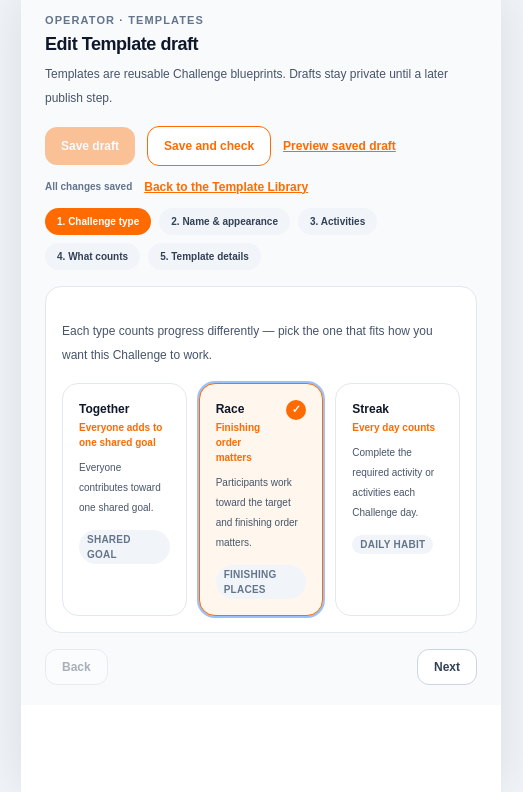
Test case: Save and check › saves through the conditional contract first, then validates the saved version once
Expected: the navigation bar named "Editor steps" is shown, [45, 208, 377, 270]
Click the button "5. Template details". click: (204, 256)
box: [148, 242, 261, 270]
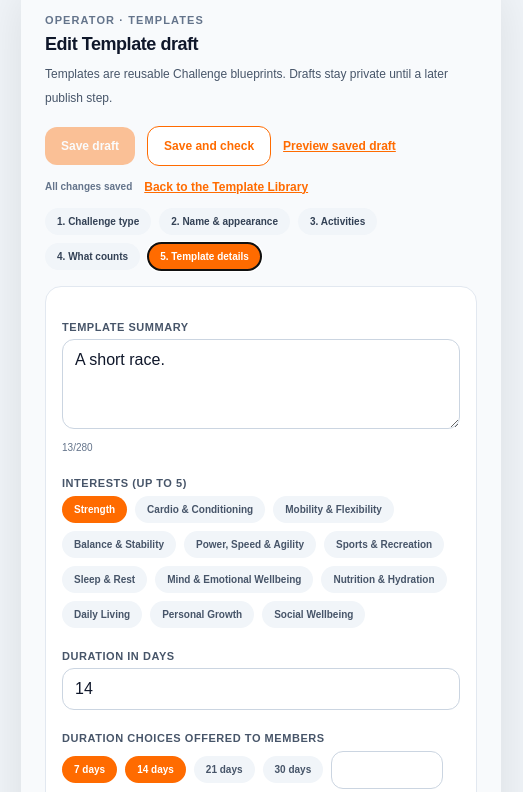
Replace the text in the text box labelled "Template summary" with "Checked summary". click: (261, 384)
box: [62, 339, 460, 429]
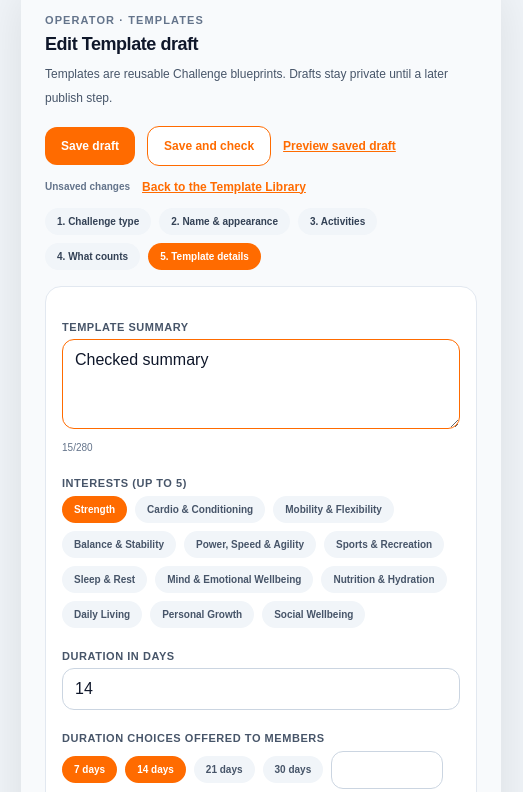
Click the button "Save and check". click: (209, 146)
box: [147, 126, 271, 166]
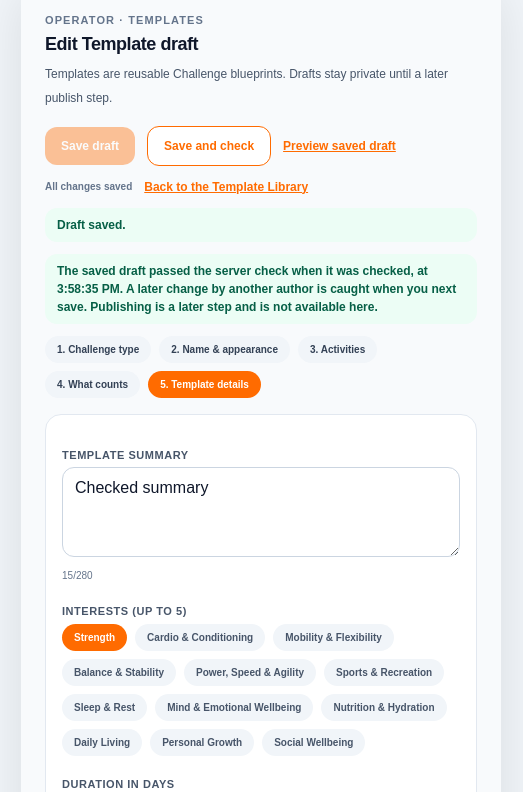
Expected: the text "passed the server check" is shown, [57, 264, 428, 278]
